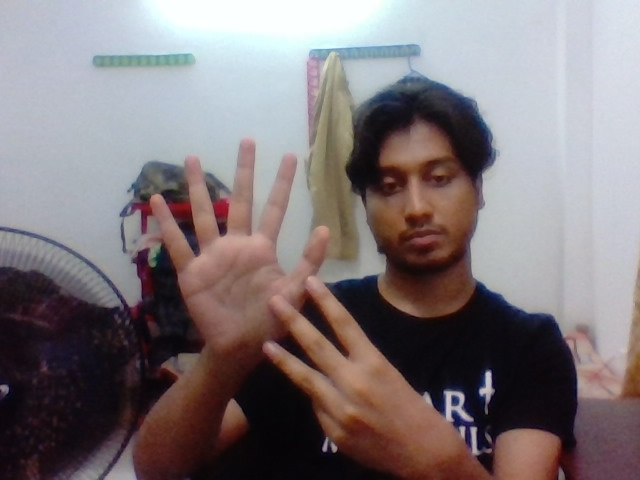M: (121, 143, 375, 426)
